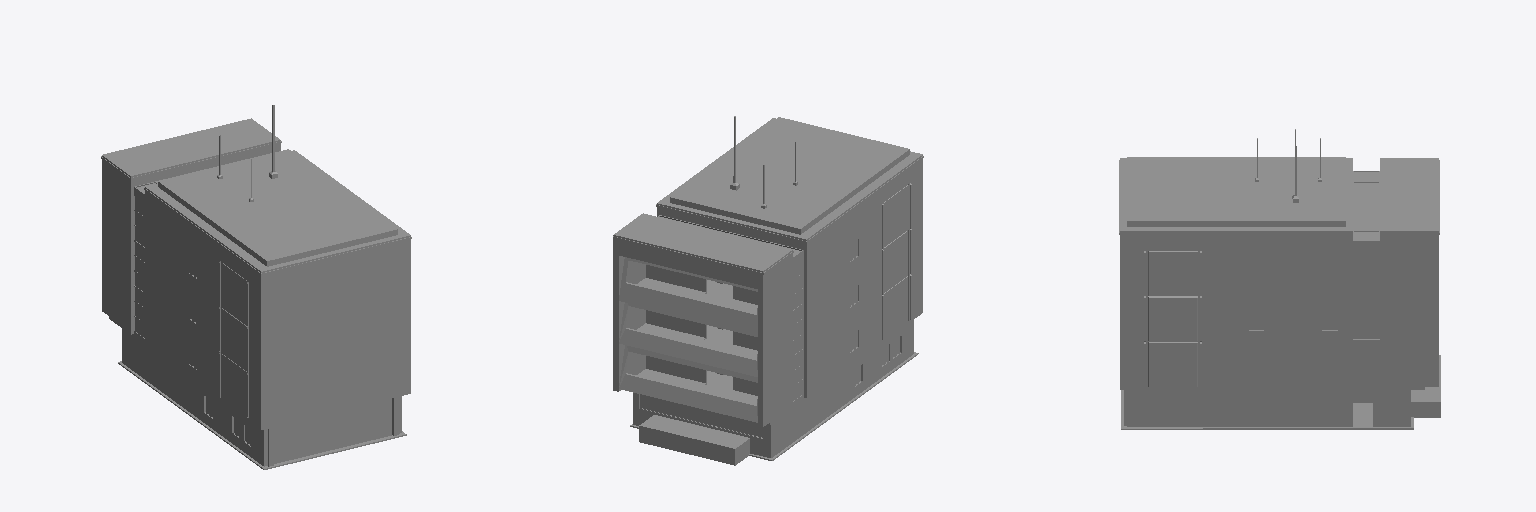
The model's file is house2.obj.
3 renders of one model, left to right at view 1: azimuth 30°, elevation 25°; view 2: azimuth 150°, elevation 25°; view 3: azimuth 270°, elevation 25°, orthographic.
Parts seen in each view (by area): view 1: Residential_Buildings_002_Cube.012_ground, Residential_Buildings_002_Cube.012_hotel_glas; view 2: Residential_Buildings_002_Cube.012_ground, Residential_Buildings_002_Cube.012_hotel_glas; view 3: Residential_Buildings_002_Cube.012_ground, Residential_Buildings_002_Cube.012_hotel_glas.
Part boxes in pixels (bbox=[...]): Residential_Buildings_002_Cube.012_ground: bbox=[101, 105, 411, 469]; Residential_Buildings_002_Cube.012_hotel_glas: bbox=[135, 182, 251, 445]; Residential_Buildings_002_Cube.012_ground: bbox=[613, 116, 923, 465]; Residential_Buildings_002_Cube.012_hotel_glas: bbox=[640, 185, 908, 437]; Residential_Buildings_002_Cube.012_ground: bbox=[1119, 129, 1440, 429]; Residential_Buildings_002_Cube.012_hotel_glas: bbox=[1148, 172, 1379, 421].
Bounding box in the file's own units: 37.78 × 65.96 × 69.29.